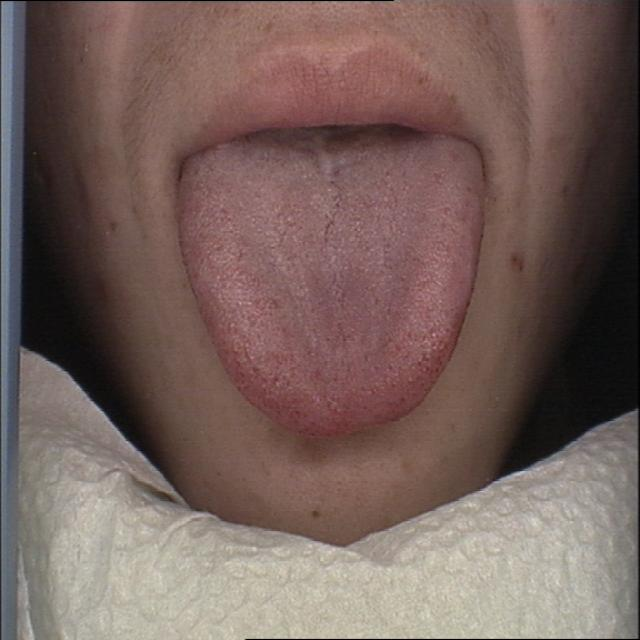tongue: (168, 136, 508, 438)
